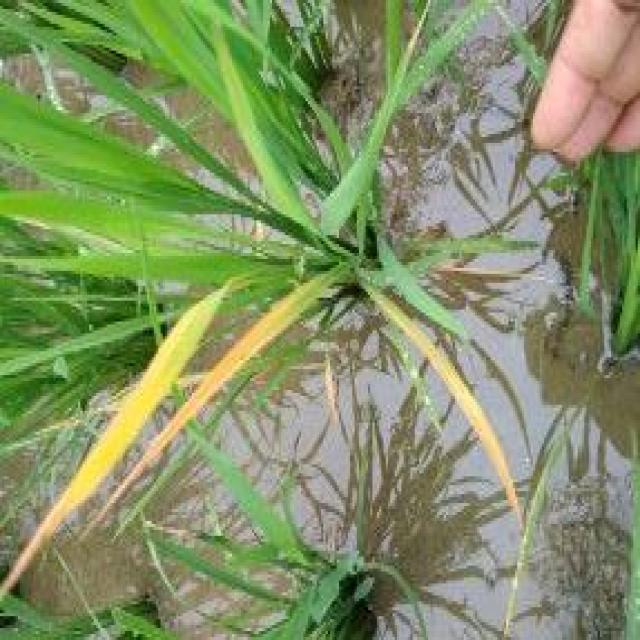Tungro: (37, 279, 325, 564), (369, 274, 539, 544)
